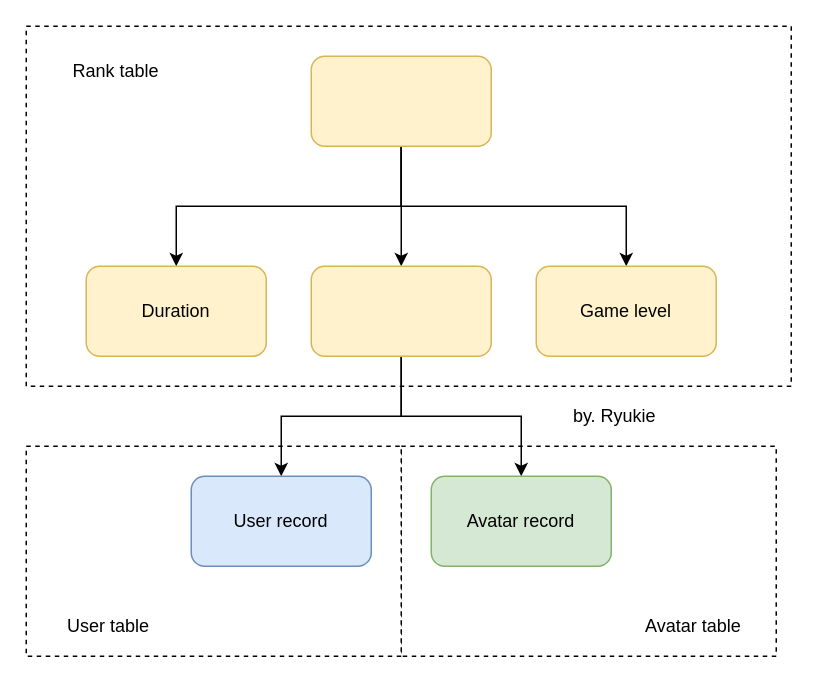
This 818x683 diagram has some shape labels left out. The shapes that lost their labels are listed below. From the top down, each one's box as (x1, y1, x2, y2) in pixels, then its label:
(310, 55, 491, 146): Rank data item
(310, 265, 491, 356): Creator record id
